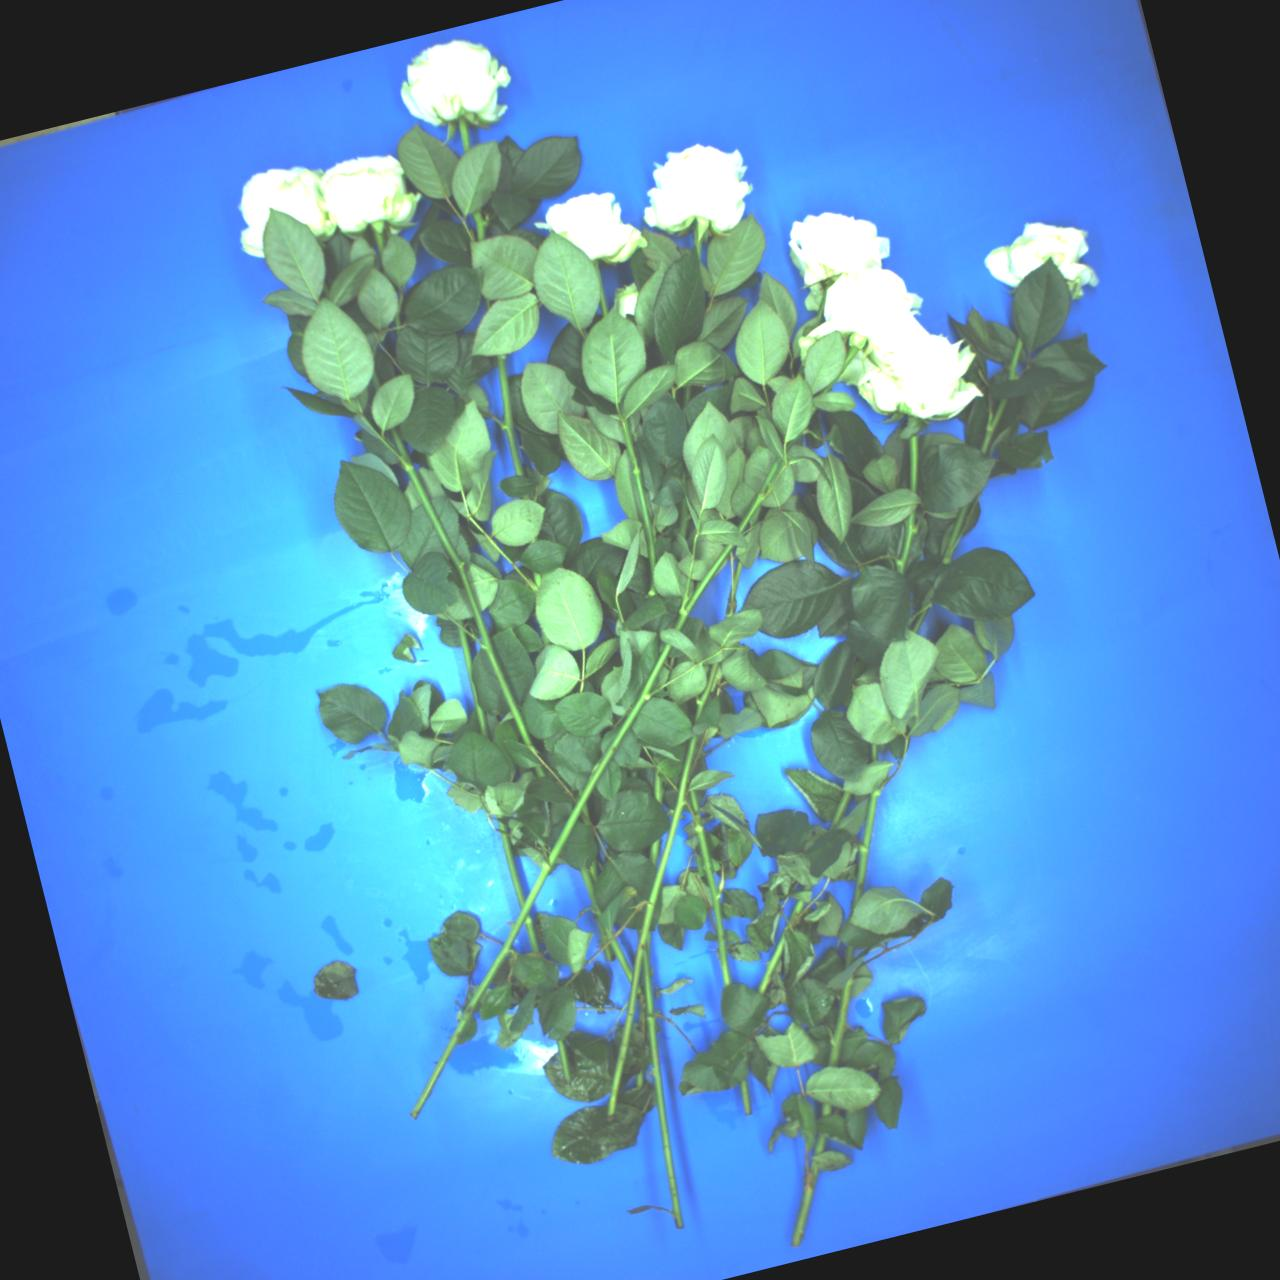Stem: (404, 642, 678, 1119), (389, 422, 532, 753), (598, 733, 700, 1123), (635, 946, 685, 1228), (681, 789, 738, 987), (611, 420, 667, 597), (672, 539, 735, 632), (455, 619, 491, 741), (736, 456, 785, 535), (493, 355, 524, 477), (850, 785, 879, 911), (496, 813, 526, 910), (789, 1160, 821, 1248), (815, 343, 859, 401), (826, 975, 855, 1065), (602, 924, 636, 983), (757, 933, 789, 994), (941, 501, 971, 565), (891, 509, 919, 573), (978, 395, 1008, 454), (690, 660, 719, 723), (578, 863, 604, 919), (590, 917, 615, 962), (724, 558, 743, 619), (590, 260, 610, 316), (828, 791, 852, 832), (556, 1039, 574, 1084), (1006, 336, 1023, 381), (784, 899, 805, 934), (906, 435, 918, 492), (523, 913, 539, 953), (910, 602, 930, 632), (470, 211, 488, 240), (457, 117, 471, 152), (782, 430, 803, 454), (678, 499, 689, 538), (740, 1077, 751, 1115), (816, 287, 829, 321), (812, 1132, 828, 1157), (373, 230, 387, 254), (648, 837, 660, 866), (653, 772, 663, 804), (694, 224, 702, 260), (368, 372, 382, 392), (844, 945, 855, 971), (578, 803, 590, 825), (587, 859, 598, 884), (682, 384, 692, 408), (533, 763, 546, 779), (638, 1003, 645, 1033), (635, 1067, 645, 1087), (533, 570, 543, 587), (542, 628, 551, 646), (638, 987, 644, 1008), (870, 743, 877, 761), (646, 932, 651, 958), (822, 1103, 831, 1116), (808, 406, 817, 417), (527, 536, 539, 544), (653, 1021, 661, 1032), (519, 492, 530, 501), (802, 885, 812, 891)
flower: (839, 302, 996, 451), (641, 136, 756, 245), (539, 172, 648, 286), (225, 157, 338, 261), (314, 144, 422, 246), (981, 215, 1104, 300), (811, 260, 925, 349), (783, 198, 894, 286), (400, 39, 511, 125), (611, 280, 640, 318)
